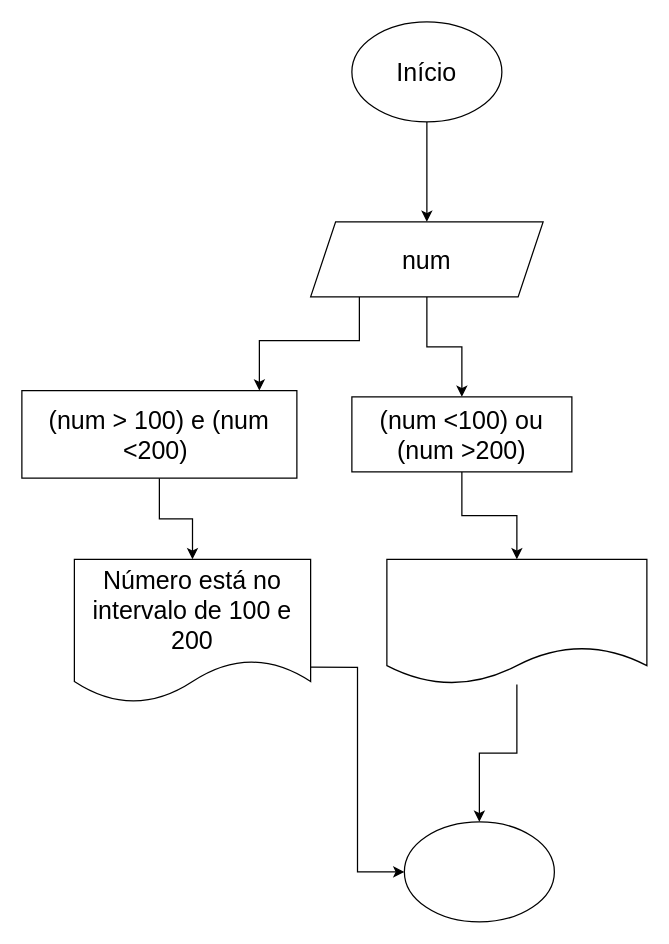
This 669x944 diagram has some shape labels left out. The centre of each missing label's shape, as x and y in pixels:
"Fim" goes at point 478,871.
"Não está no intervalo de 100 e 200" goes at point 516,621.
